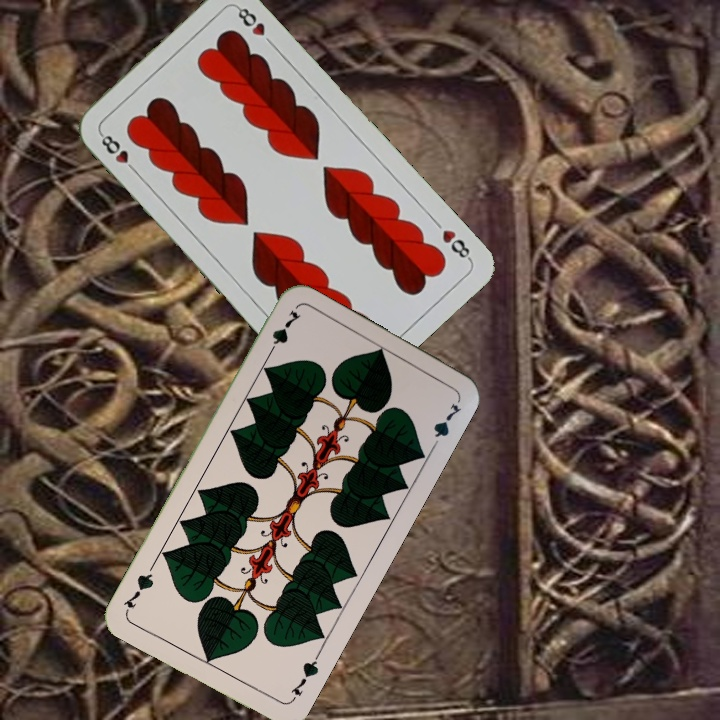G7: (263, 305, 304, 360), (286, 650, 322, 705)
H8: (96, 129, 140, 176), (438, 225, 474, 263)
